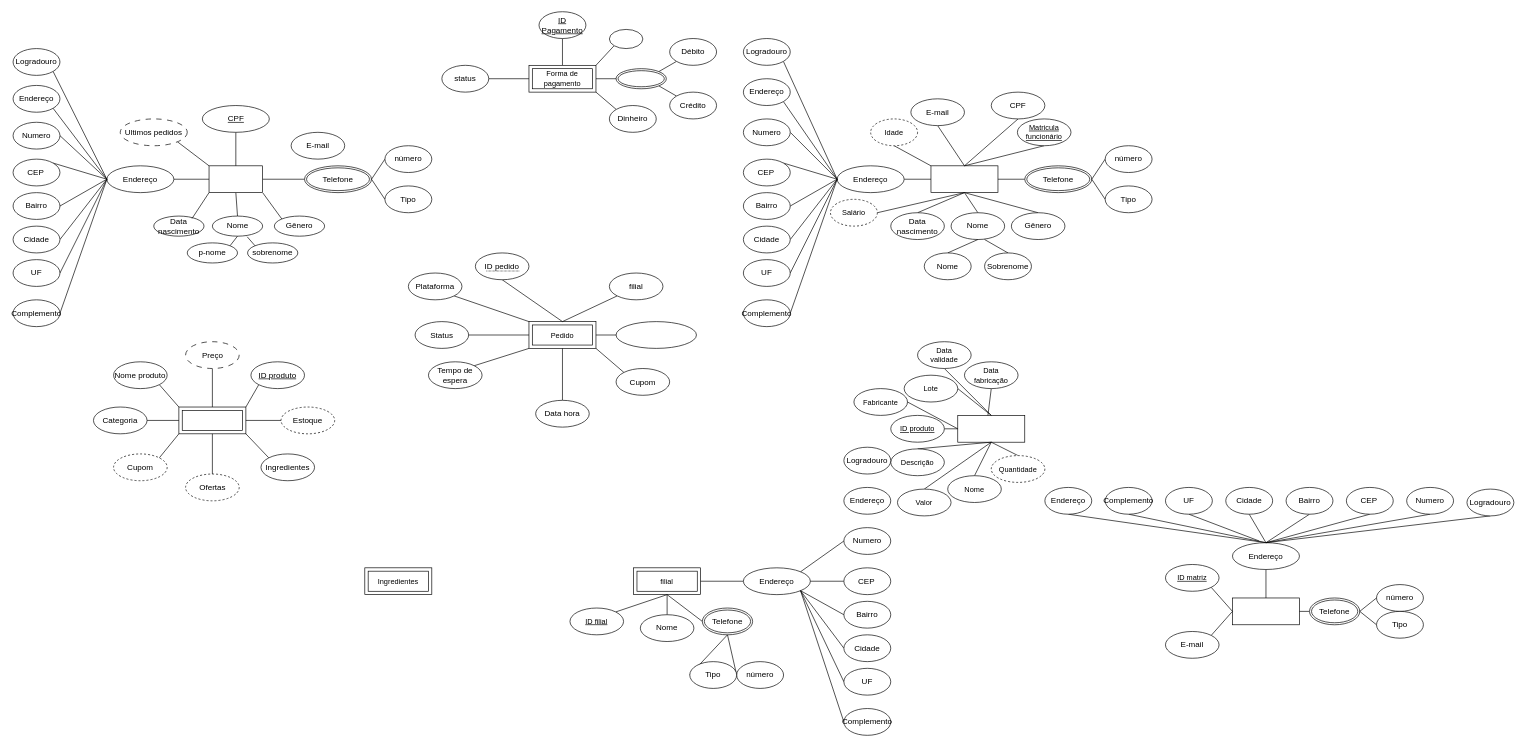
Some shapes in this 1526 by 747 pixel diagram are drawn without their labels. Each missing label, with the box of its shape:
Cardapio: (178, 406, 246, 434)
Cartão: (615, 68, 666, 89)
Cliente: (208, 165, 263, 193)
Funcionário: (930, 165, 998, 193)
Matriz: (1232, 597, 1299, 625)
Ordem de pagamento: (615, 321, 696, 348)
Pix: (609, 29, 643, 49)
Produto: (957, 415, 1025, 442)
